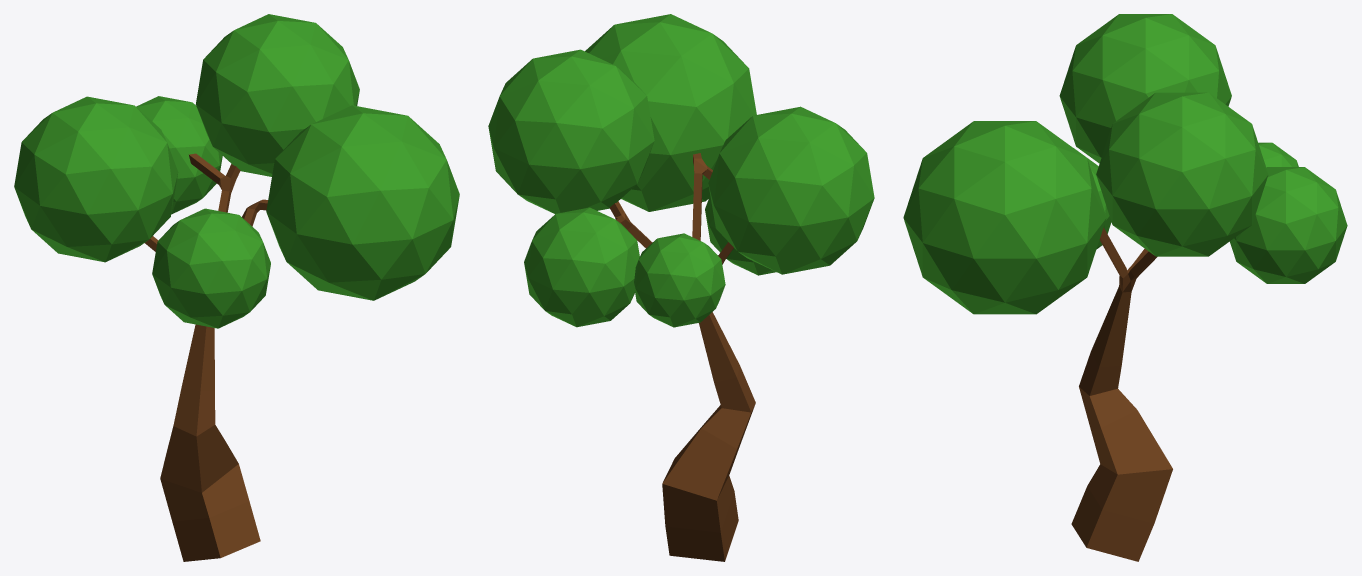
File: Tree.fbx
3 views of the same model, side by side, from view 1: azimuth 30°, elevation 25°; view 2: azimuth 150°, elevation 25°; view 3: azimuth 270°, elevation 25° (orthographic). The views are drawn at different scales.
Visible parts, largest first — view 1: Icosphere.001; view 2: Icosphere.001; view 3: Icosphere.001.
Boxes of the visible parts, left/top/right/bottom form: Icosphere.001: left=14, top=14, right=459, bottom=561; Icosphere.001: left=488, top=14, right=874, bottom=561; Icosphere.001: left=903, top=14, right=1347, bottom=561.
Bounding box in the file's own units: 676 × 725 × 907.
